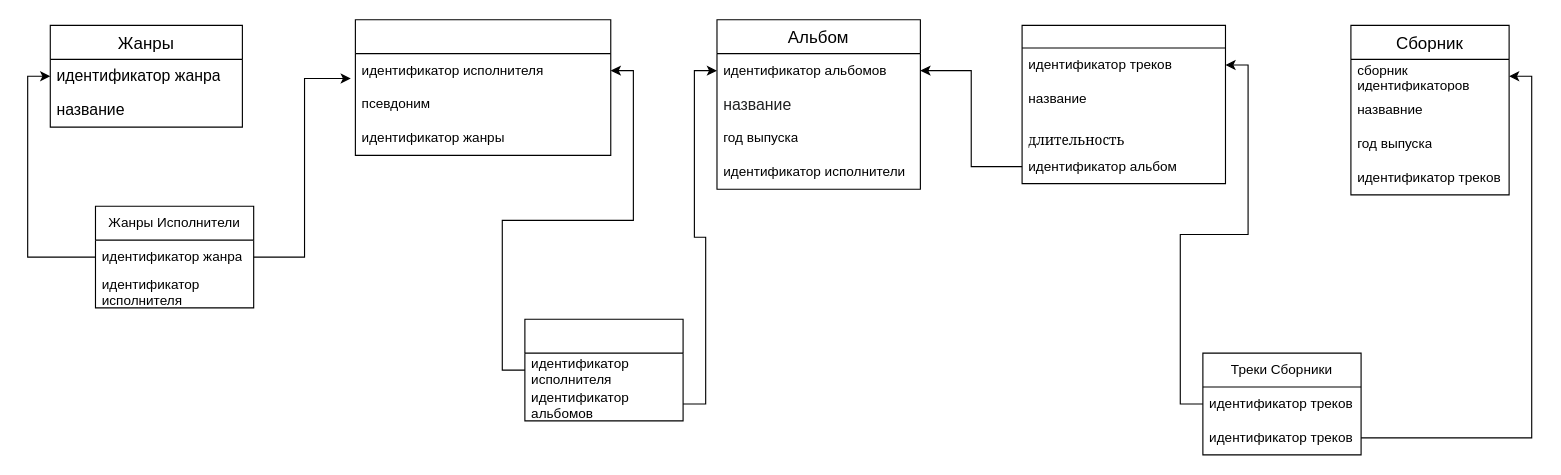
The diagram is 1561 pixels wide and 475 high, and some of its shapes have lost their labels. The shapes that lost their labels are listed below. From the top down, each one's box as (x1, y1, x2, y2) in pixels, then its label:
(354, 19, 611, 155): Исполнители
(1021, 24, 1225, 184): Треки
(524, 318, 683, 421): Исполнитель Альбом
